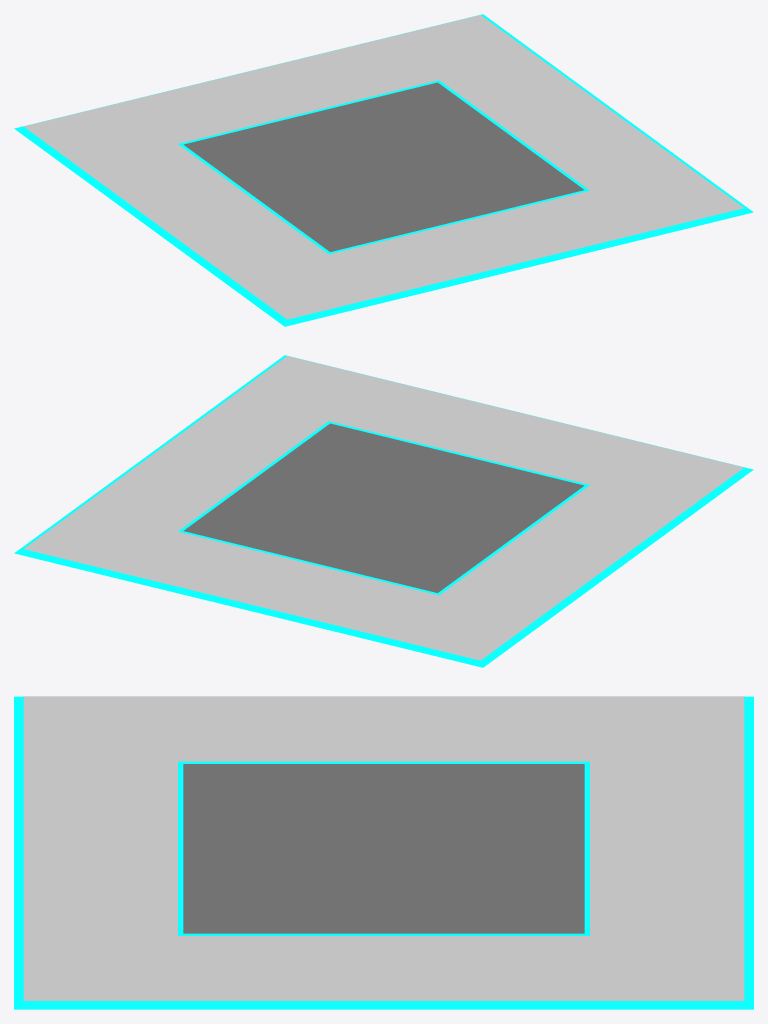
The model's file is baseScene.glb.
3 views of the same model, one above another, from view 1: azimuth 30°, elevation 25°; view 2: azimuth 150°, elevation 25°; view 3: azimuth 270°, elevation 25° (orthographic). The views are drawn at different scales.
Parts seen in each view (by area): view 1: baseScene; view 2: baseScene; view 3: baseScene.
Boxes of the visible parts, left/top/right/bottom form: baseScene: left=14, top=14, right=753, bottom=326; baseScene: left=14, top=355, right=753, bottom=667; baseScene: left=14, top=696, right=753, bottom=1009.
Size of the model in its own units: 16 by 0.1035 by 16.
